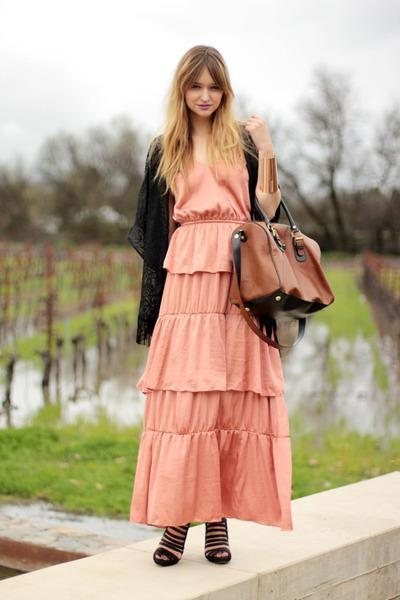dress: (117, 117, 297, 535)
